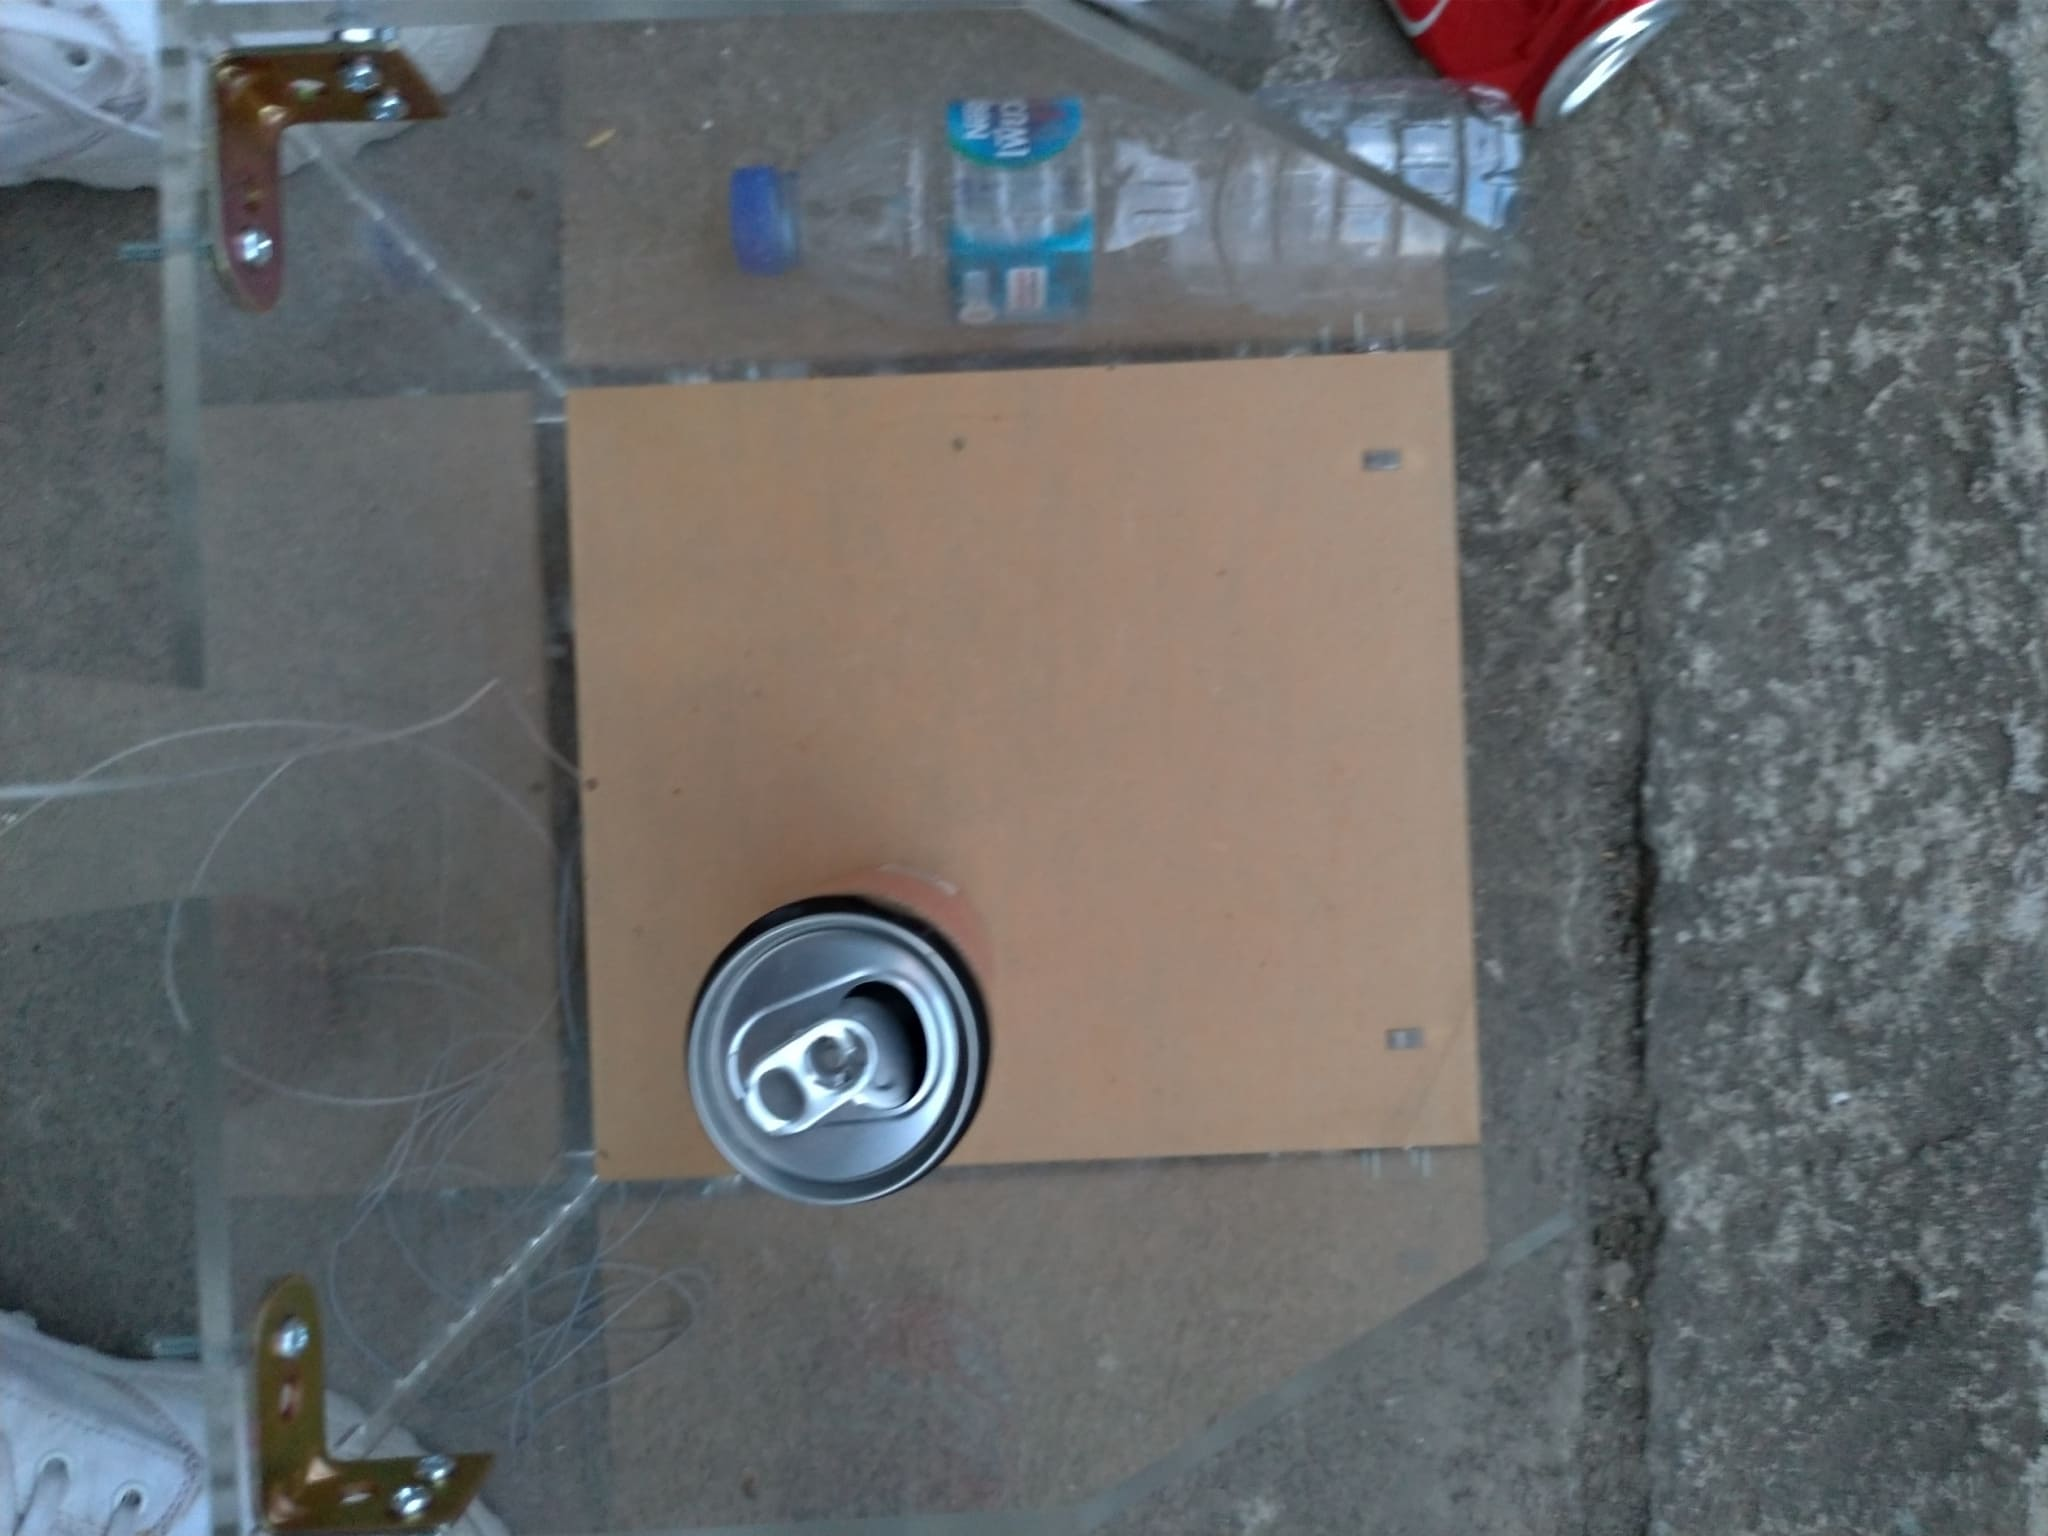AlCan: (684, 860, 1003, 1205), (1364, 5, 1682, 123)
PlasticBottle: (726, 89, 1521, 332)
